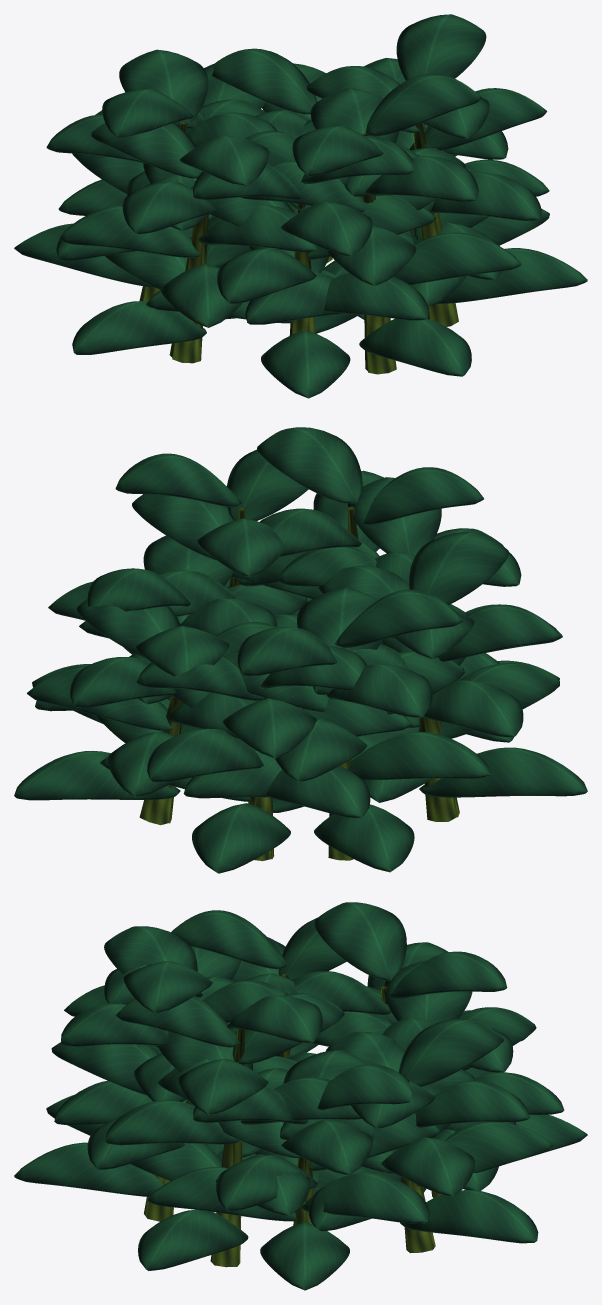
File: dense-jade-shrub.glb
3 views of the same model, one above another, from view 1: azimuth 30°, elevation 25°; view 2: azimuth 150°, elevation 25°; view 3: azimuth 270°, elevation 25° (orthographic). The views are drawn at different scales.
Parts seen in each view (by area): view 1: dense-jade-shrub_ground-jade, dense-jade-shrub_ground-root; view 2: dense-jade-shrub_ground-jade, dense-jade-shrub_ground-root; view 3: dense-jade-shrub_ground-jade, dense-jade-shrub_ground-root.
Part boxes in pixels (<box>): dense-jade-shrub_ground-jade: <box>14,14,587,398</box>; dense-jade-shrub_ground-root: <box>139,122,458,374</box>; dense-jade-shrub_ground-jade: <box>14,427,587,873</box>; dense-jade-shrub_ground-root: <box>139,506,459,861</box>; dense-jade-shrub_ground-jade: <box>14,902,587,1290</box>; dense-jade-shrub_ground-root: <box>144,974,441,1267</box>.
Size of the model in its own units: 1.3 by 0.6959 by 1.29.
Materials: 2 (2 with a texture image).
